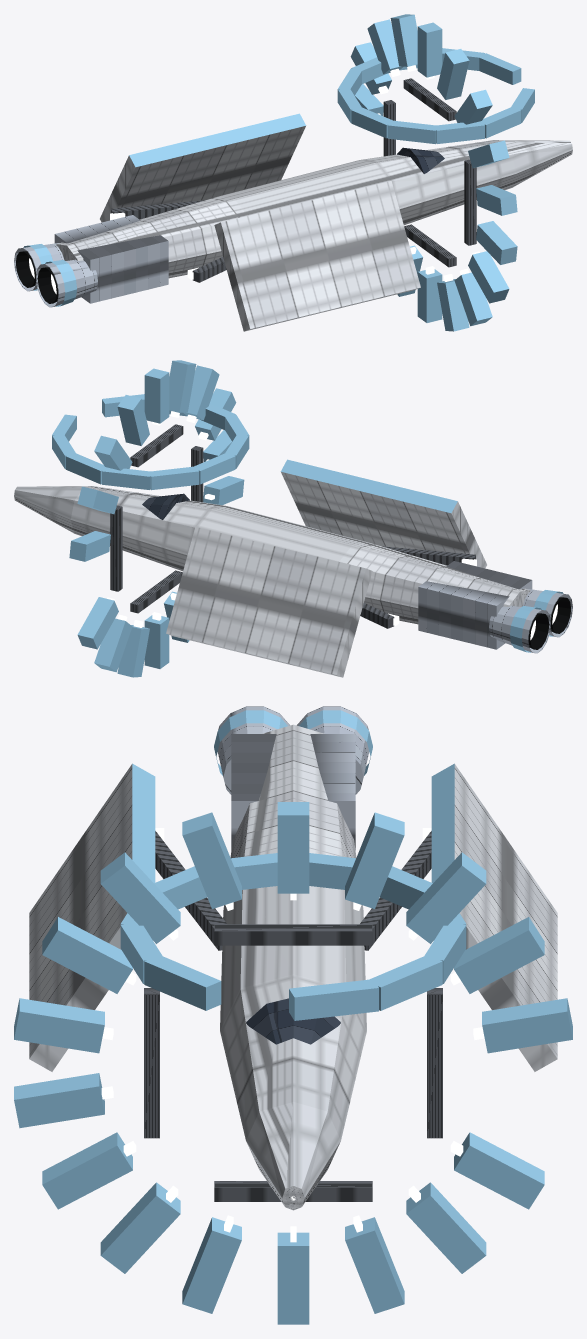
File: scout.glb
3 views of the same model, one above another, from view 1: azimuth 30°, elevation 25°; view 2: azimuth 150°, elevation 25°; view 3: azimuth 270°, elevation 25° (orthographic). The views are drawn at different scales.
Visible parts, largest first — view 1: scout; view 2: scout; view 3: scout.
Part boxes in pixels (left/top/right/bottom): scout: left=14, top=14, right=572, bottom=331; scout: left=14, top=360, right=572, bottom=677; scout: left=14, top=706, right=572, bottom=1324.
Size of the model in its own units: 18 by 9.36 by 9.31.
1 material, 1 textured.
